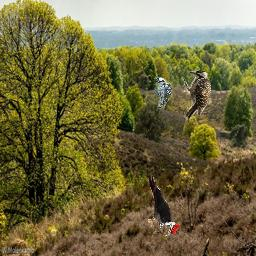Woodpecker: (149, 175, 180, 237), (181, 68, 211, 122), (154, 77, 172, 109)
